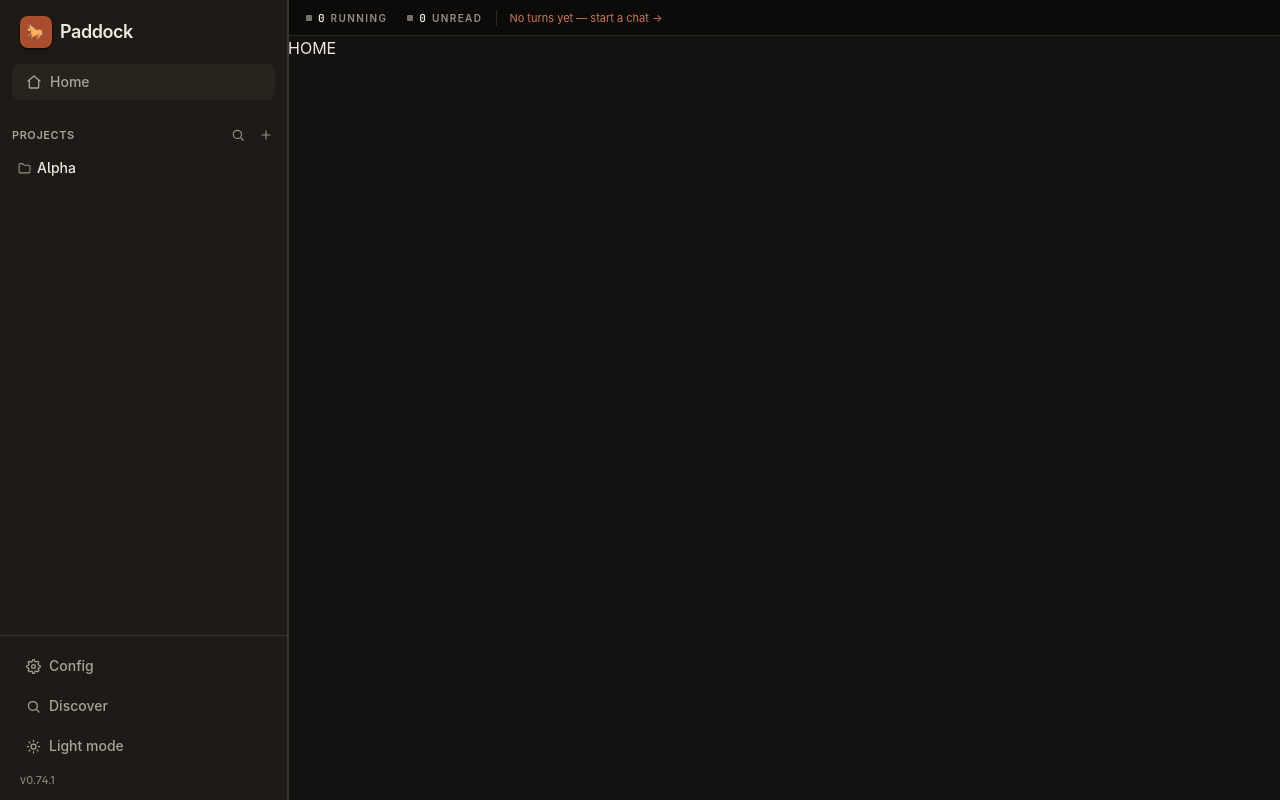
it: AppShell: navigation › a project nav link routes to that project
Click the link "Alpha". click: coordinates (47, 168)
box: [18,159,76,176]
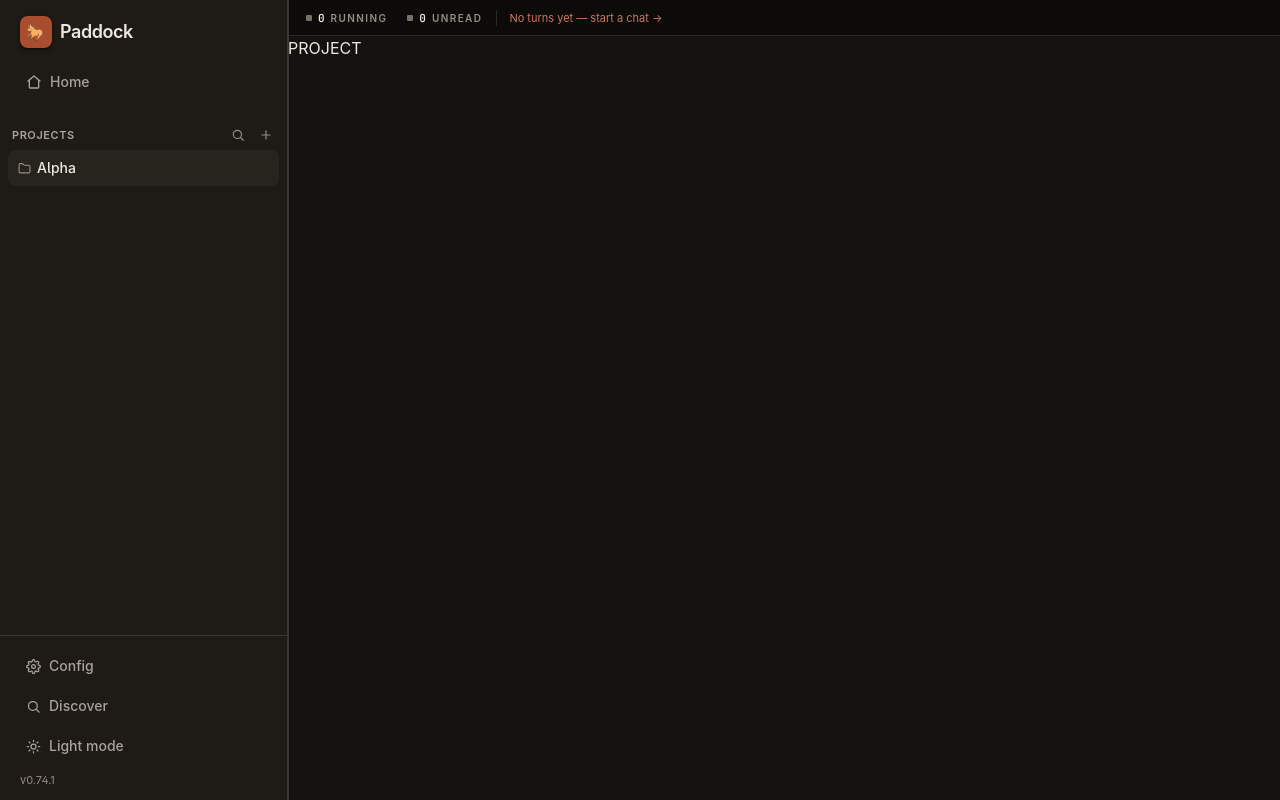
Result: the text "PROJECT" is shown at [288,38,362,58]
